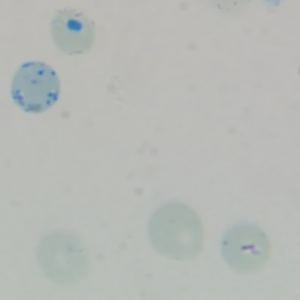aggregate reticulocyte: (8, 60, 62, 115)
erythrocyte: (35, 231, 93, 289), (217, 221, 272, 277), (48, 7, 97, 56)
punctate reticulocyte: (145, 200, 208, 264)
